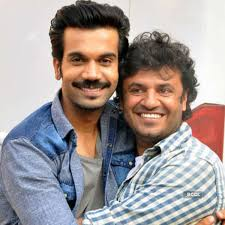Bad: (1, 1, 225, 225)
